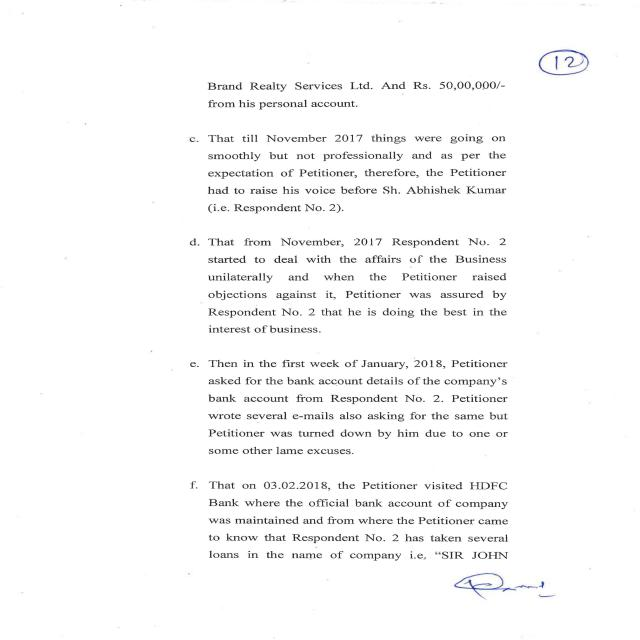page-number: (507, 5, 640, 142)
